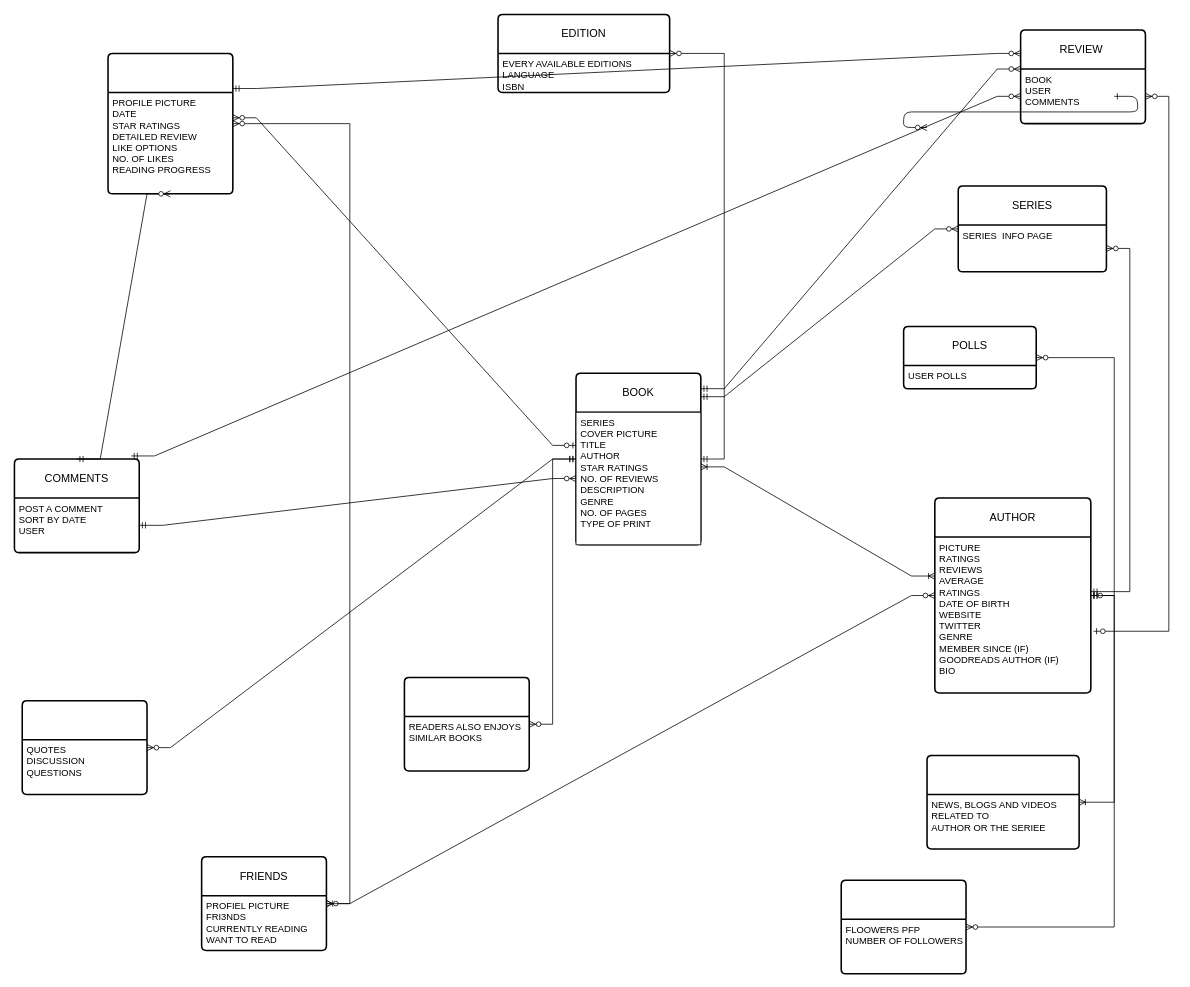
Image size: 1190x987. Some labels were removed from this diagram. Each missing label, with the box of its shape:
DISCUSSION FORUMS: (21, 700, 147, 795)
FOLLOWING: (840, 879, 966, 974)
NEWS, BLOG& VIDEOS: (926, 754, 1080, 849)
RECOMMENDATIONS: (403, 676, 530, 771)
USER: (107, 52, 233, 194)
